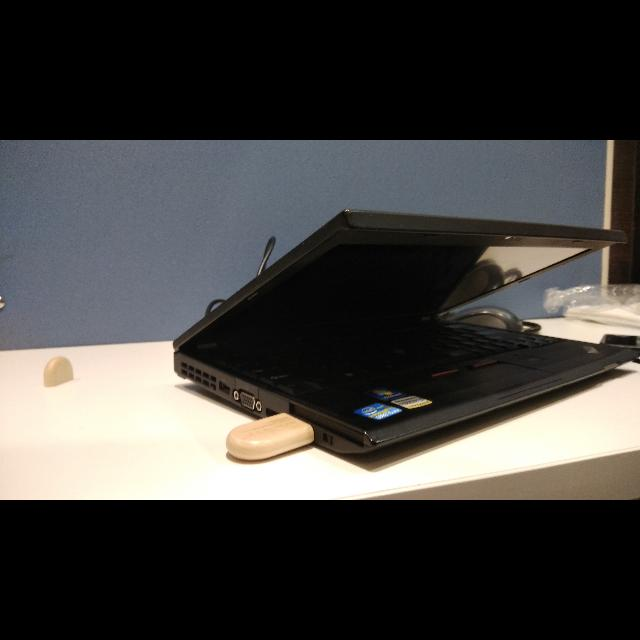Laptop: (168, 202, 640, 480)
